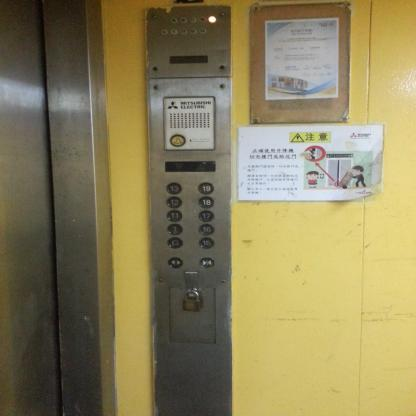1: (166, 223, 182, 235)
11: (166, 209, 182, 222), (179, 28, 188, 35)
12: (166, 196, 182, 208), (189, 27, 196, 34)
13: (166, 182, 182, 194), (198, 27, 207, 34)
15: (198, 236, 214, 249)
16: (198, 223, 214, 236)
17: (198, 210, 214, 222)
18: (198, 195, 214, 209)
19: (198, 181, 214, 195)
G: (166, 237, 182, 249)
alarm: (169, 134, 186, 147)
blur: (188, 16, 197, 23), (170, 17, 178, 24), (160, 28, 168, 35), (170, 28, 178, 35), (179, 17, 187, 24), (198, 16, 206, 23)
close: (199, 257, 214, 268)
empty: (208, 15, 217, 23)
led: (164, 161, 216, 172), (168, 55, 209, 64)
open: (168, 257, 182, 268)
